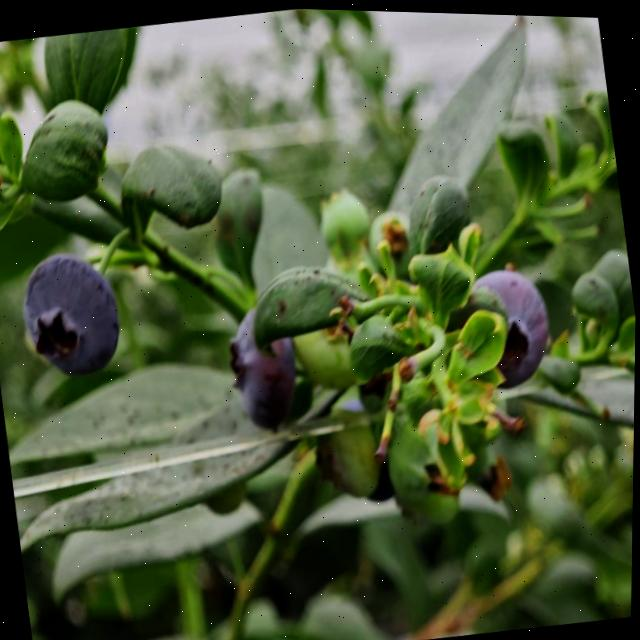RipeBlueBerry: (17, 245, 130, 384), (458, 259, 563, 393), (225, 301, 308, 434)
